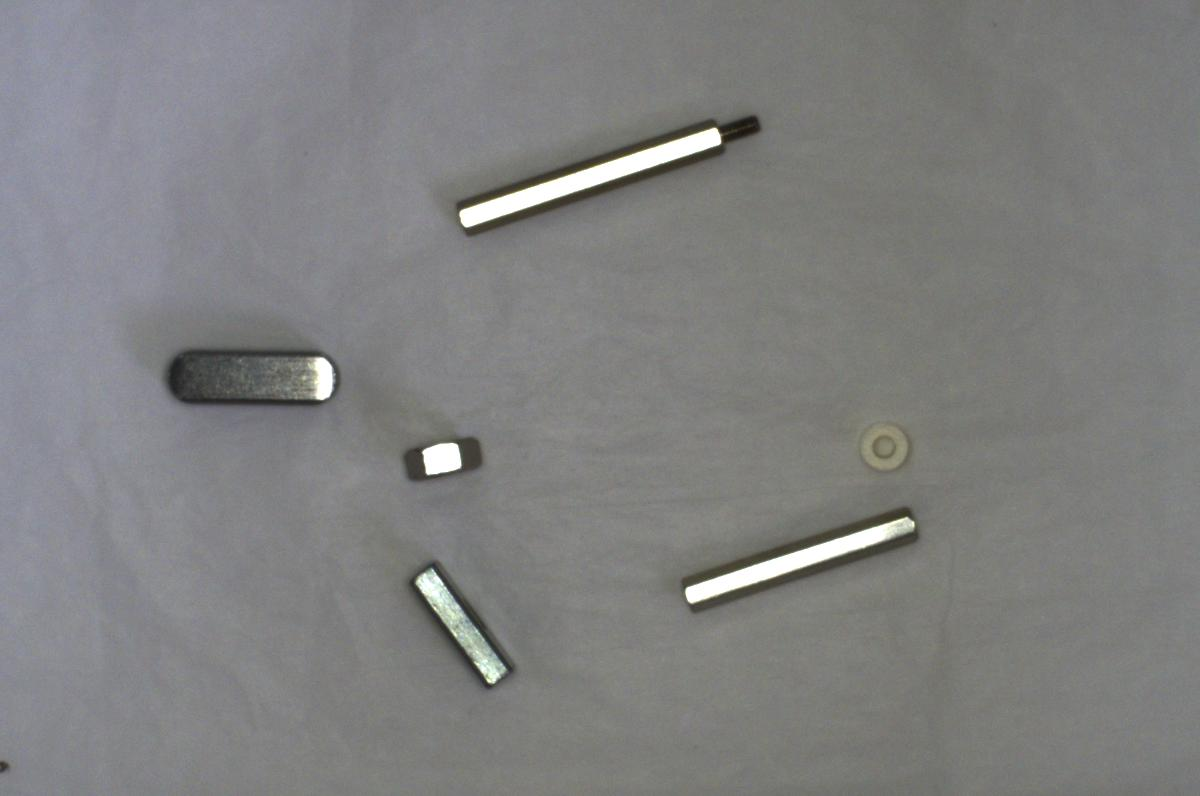Double hexagonal column: (678, 510, 921, 614)
Hexagon nut: (393, 426, 485, 485)
Hexagonal steel column: (444, 105, 773, 236)
Keybar: (158, 342, 344, 414)
Plastic cushion pillar: (846, 415, 922, 478)
Rectangular nut: (405, 555, 521, 690)
